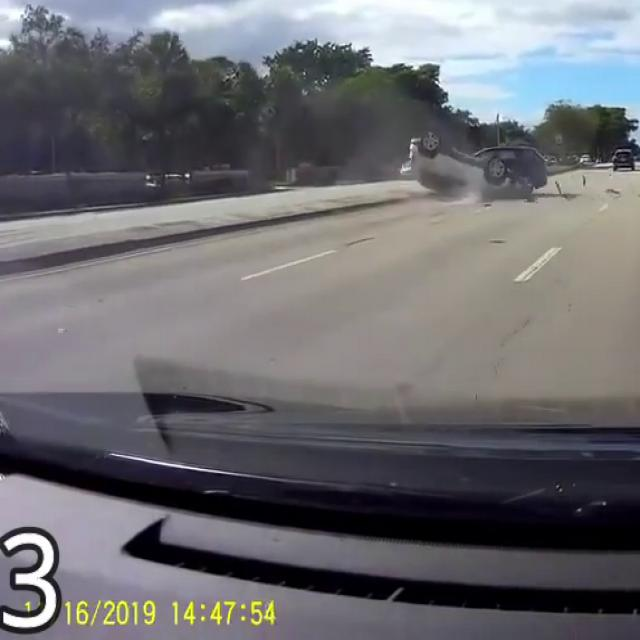accident: (376, 141, 534, 220)
